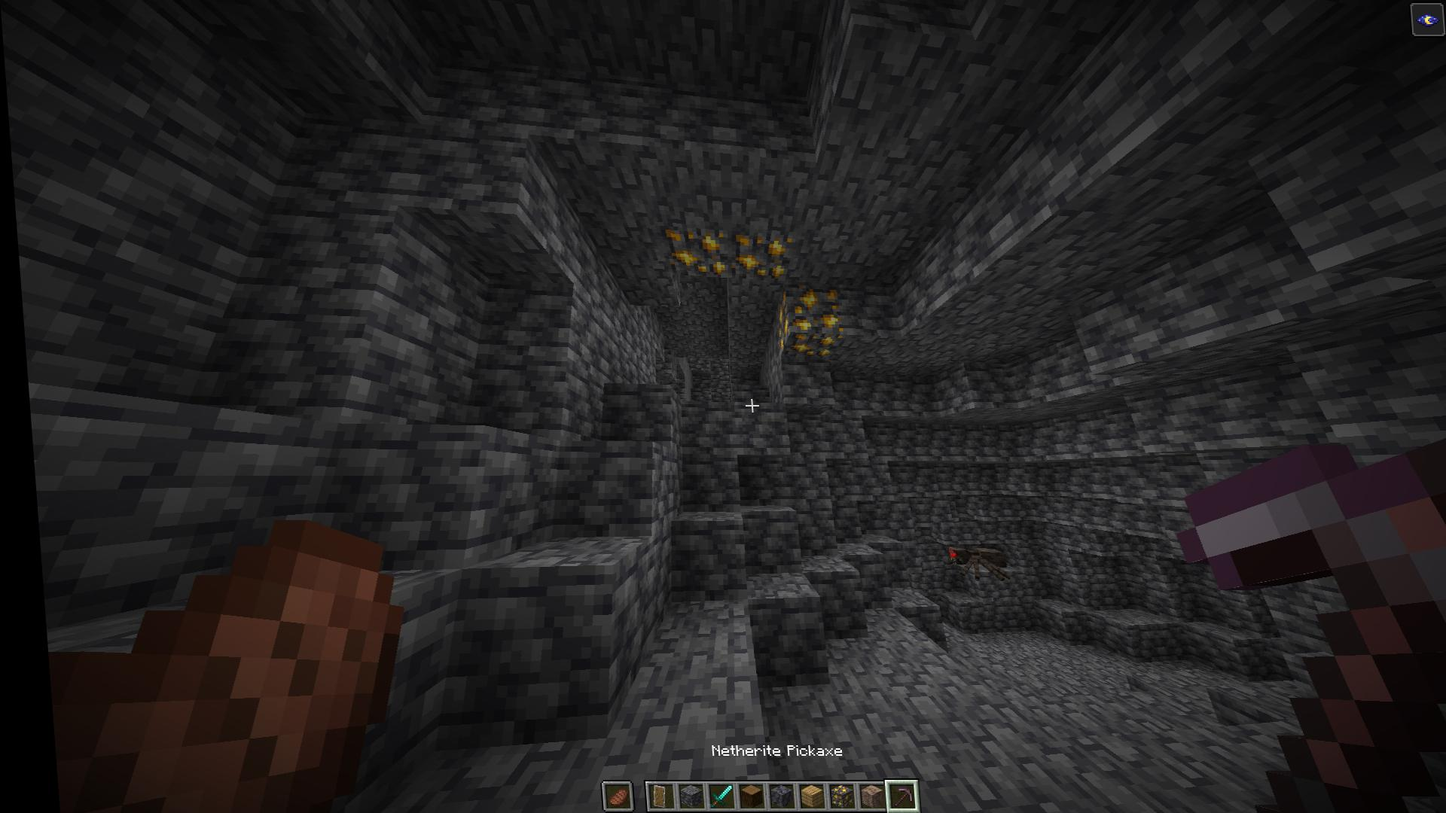gold ore: (659, 224, 726, 277), (728, 228, 791, 281), (782, 284, 835, 331), (778, 331, 836, 356)
